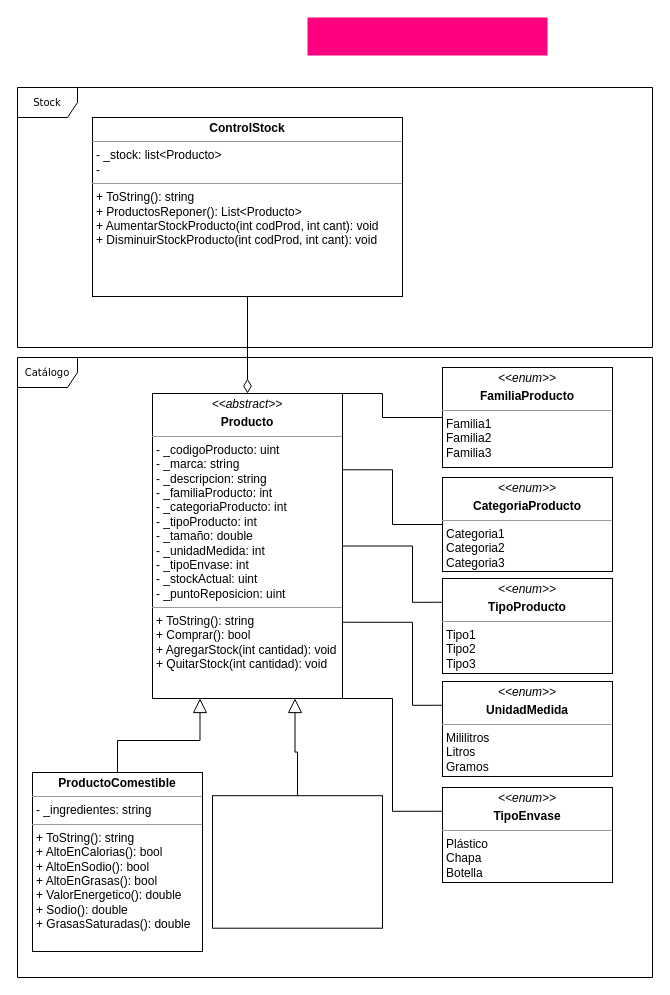
Some shapes in this 670 by 995 pixel diagram are drawn without their labels. Each missing label, with the centre of its shape:
Ejercicio ALMACEN: [427,36]
ProductoLimpieza - _materiales: string + ToString(): string: [297,861]
